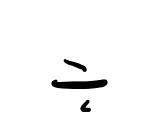div: (52, 58, 108, 112)
